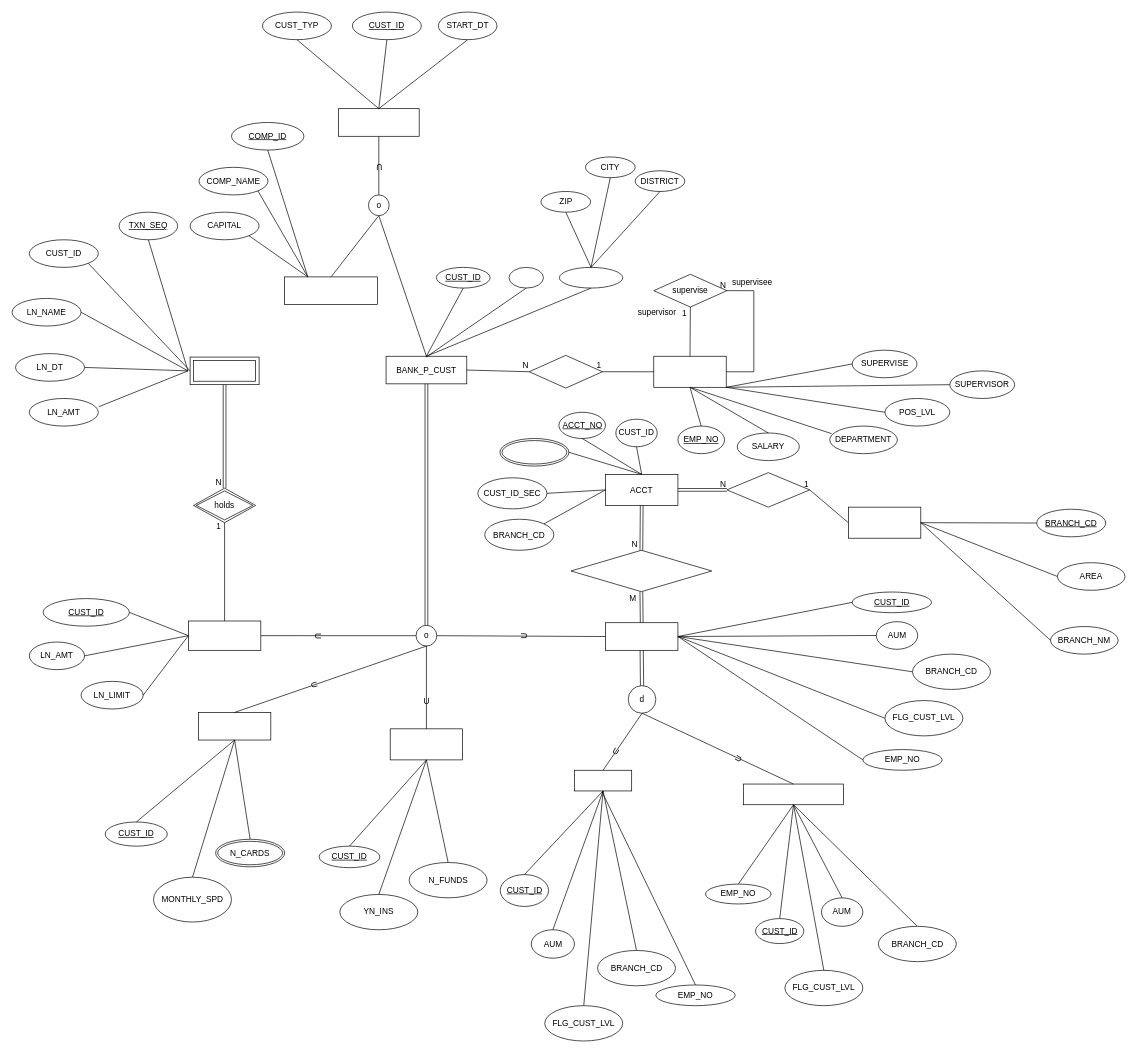
Some shapes in this 1137 by 1054 pixel diagram are drawn without their labels. Here are the shapes that lost their labels. From the top down, the centre of each, then its label:
At pixel 378 122: "BANK_CUST".
At pixel 330 290: "BANK_COMP_CUST".
At pixel 526 277: "AGE".
At pixel 591 277: "ADDRESS".
At pixel 224 370: "LN_TXNS".
At pixel 565 371: "manage".
At pixel 689 371: "EMP".
At pixel 534 452: "ACCT_TYP".
At pixel 768 489: "maintain".
At pixel 884 522: "BRANCH".
At pixel 641 571: "ACCT_BRN_CUST_HOLDS".
At pixel 224 635: "LN_CUST".
At pixel 641 636: "BRN_CUST".
At pixel 234 726: "CC_CUST".
At pixel 426 744: "INVST_CUST".
At pixel 603 780: "MASS_CUST".
At pixel 793 794: "AFFLUENT_CUST".
